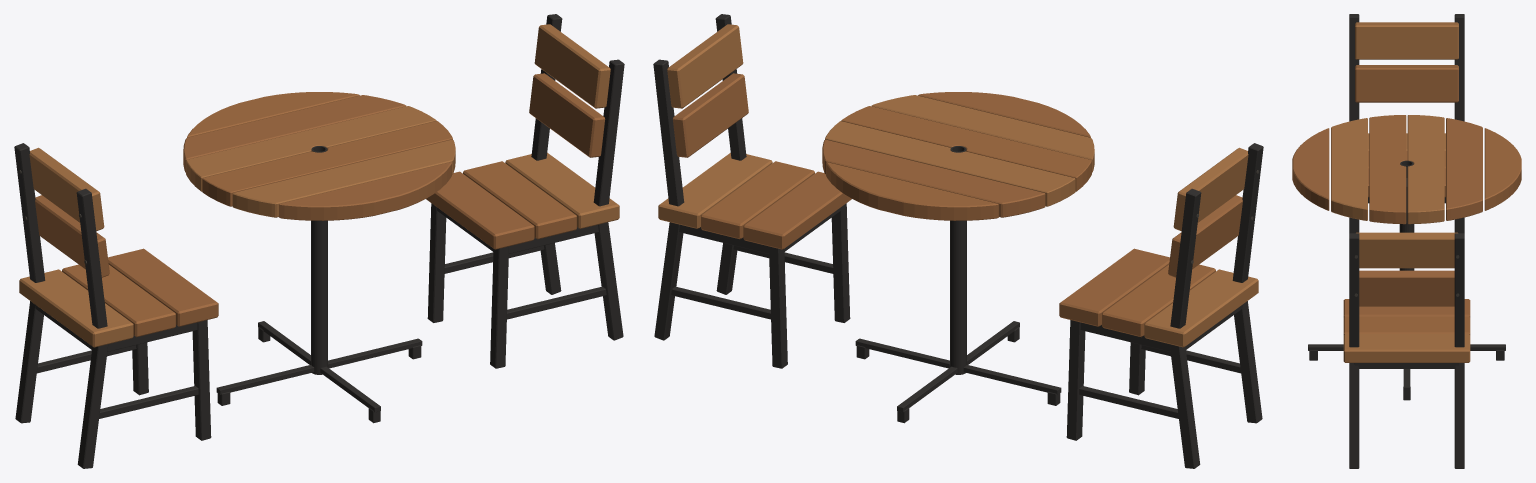
File: cafe_table_set.glb
3 renders of one model, left to right at view 1: azimuth 30°, elevation 25°; view 2: azimuth 150°, elevation 25°; view 3: azimuth 270°, elevation 25°, orthographic. The views are drawn at different scales.
Parts seen in each view (by area): view 1: body; view 2: body; view 3: body.
Part boxes in pixels (box(x1,y1,x2,y2)): body: box(14, 14, 624, 468); body: box(653, 14, 1263, 468); body: box(1292, 14, 1521, 468).
Size of the model in its own units: 1.84 by 0.8967 by 0.795.
